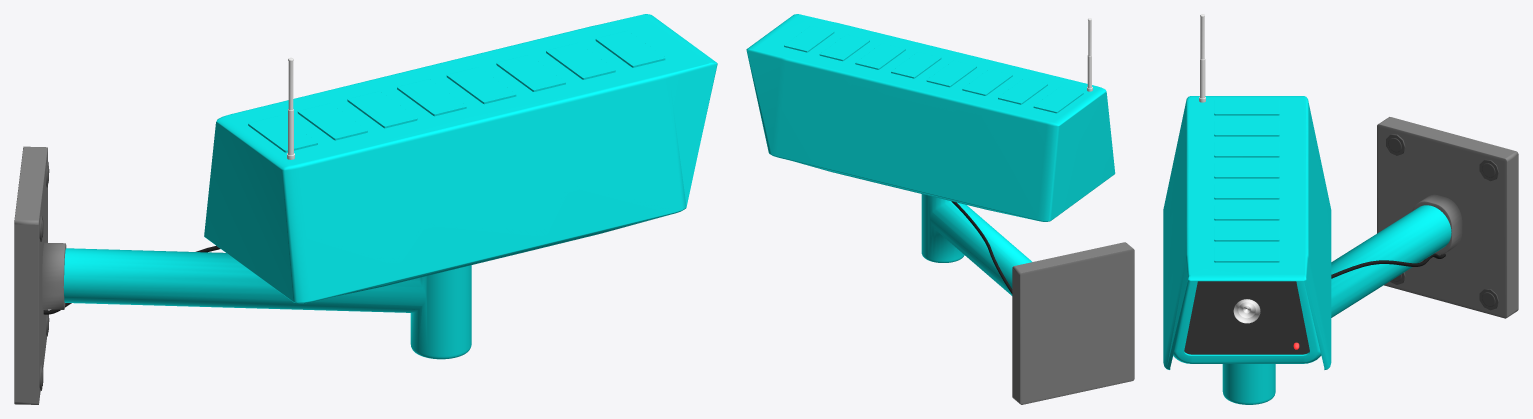
The picture shows the model from 3 angles, left to right: view 1: azimuth 30°, elevation 25°; view 2: azimuth 150°, elevation 25°; view 3: azimuth 270°, elevation 25°; orthographic projection. The views are drawn at different scales.
Visible parts, largest first — view 1: Cubo, Cilindro.002, Cubo.003, Cilindro; view 2: Cubo, Cubo.003, Cilindro.002, Curva Bezier; view 3: Cubo, Cubo.003, Cilindro.002, Cube.002, Cube.003, Cube.000, Curva Bezier, Cilindro, Cilindro.010, Cilindro.009, Cilindro.012.
Part boxes in pixels (x1,y1,x2,y2): Cubo: (204, 14, 717, 303); Cilindro.002: (63, 248, 471, 359); Cubo.003: (14, 146, 66, 404); Cilindro: (287, 57, 294, 159); Cubo: (746, 14, 1115, 221); Cubo.003: (1012, 242, 1134, 404); Cilindro.002: (921, 194, 1031, 295); Curva Bezier: (951, 201, 1012, 293); Cubo: (1163, 96, 1331, 369); Cubo.003: (1377, 117, 1518, 318); Cilindro.002: (1222, 205, 1451, 404); Cube.002: (1184, 281, 1309, 354); Cube.003: (1173, 281, 1321, 363); Cube.000: (1233, 299, 1260, 323); Curva Bezier: (1331, 253, 1445, 278); Cilindro: (1199, 14, 1205, 102); Cilindro.010: (1386, 134, 1405, 155); Cilindro.009: (1479, 159, 1498, 181); Cilindro.012: (1479, 288, 1498, 310).
Size of the model in its own units: 9.59 by 5.97 by 5.77.
